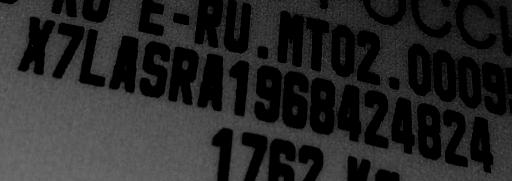letter: (14, 14, 58, 75), (106, 33, 142, 94), (136, 40, 172, 99), (166, 45, 202, 104), (76, 25, 108, 88), (251, 63, 285, 122), (281, 68, 315, 127), (306, 76, 340, 135), (52, 22, 86, 78), (361, 86, 391, 149), (334, 83, 366, 142), (414, 101, 446, 160), (194, 52, 226, 111), (224, 58, 254, 117), (390, 94, 418, 155), (468, 113, 496, 173), (442, 107, 468, 168)
